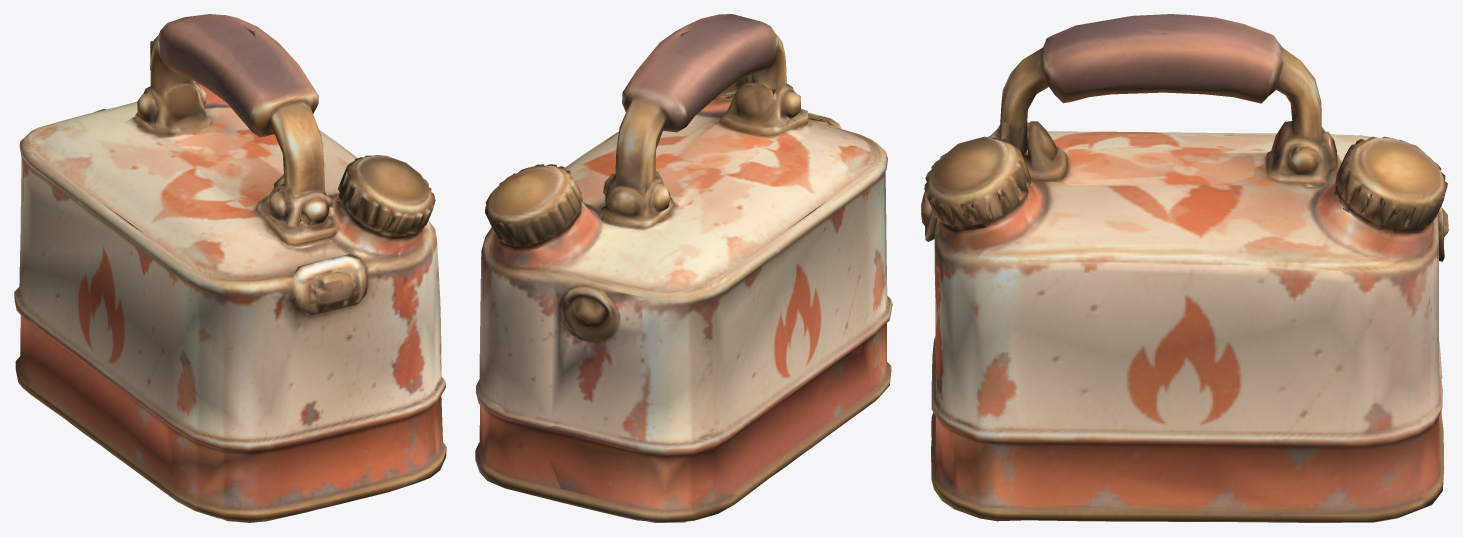
3 renders of one model, left to right at view 1: azimuth 30°, elevation 25°; view 2: azimuth 150°, elevation 25°; view 3: azimuth 270°, elevation 25°, orthographic. The views are drawn at different scales.
Parts seen in each view (by area): view 1: geometry_0_low; view 2: geometry_0_low; view 3: geometry_0_low.
Part boxes in pixels (x1,y1,x2,y2): geometry_0_low: [14, 14, 446, 522]; geometry_0_low: [475, 14, 892, 522]; geometry_0_low: [921, 14, 1448, 522].
Bounding box in the file's own units: 0.6755 × 0.9998 × 1.09.
Materials: 1 (1 with a texture image).
